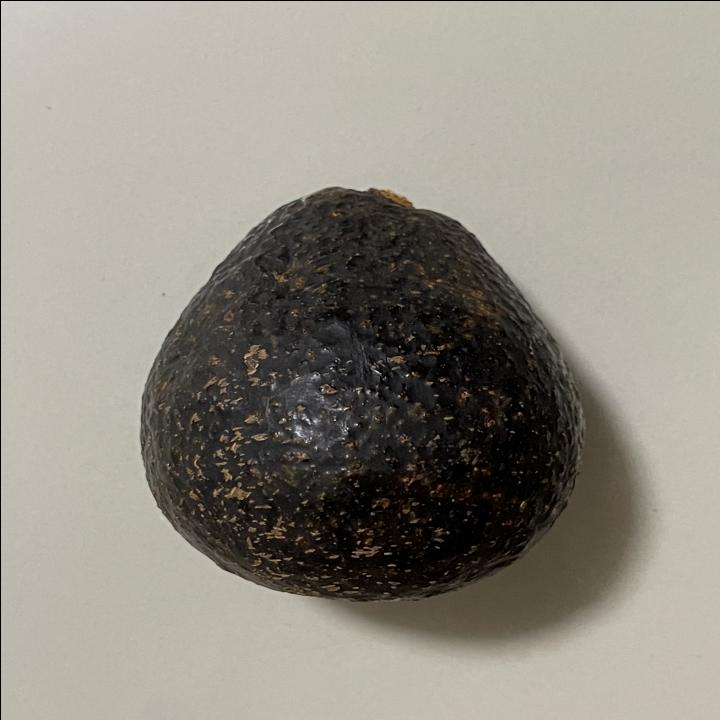Level2: (128, 176, 594, 608)
